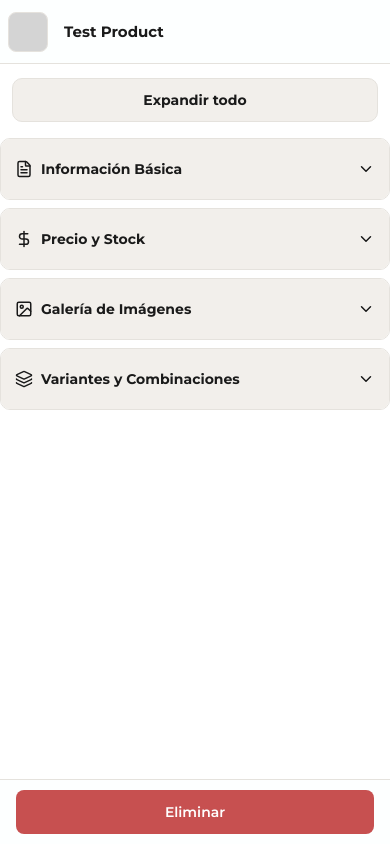
ProductDetailPanel - Delete Confirmation Modal › should show delete confirmation modal when delete button is clicked
Click the button "Eliminar" at (195, 812), box [16,790,374,834]
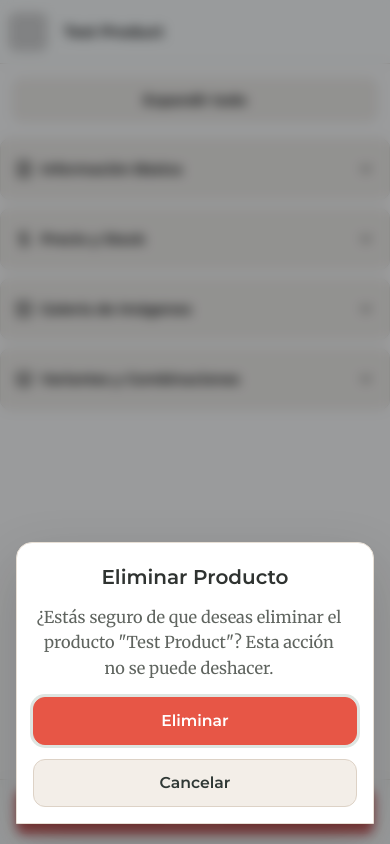
Now the text "Esta acción no se puede deshacer" is shown, box [37,607,341,678]
